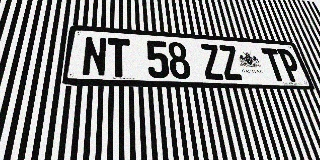5: (146, 40, 170, 79)
8: (167, 42, 192, 79)
N: (81, 36, 107, 77)
P: (277, 49, 304, 82)
T: (107, 38, 131, 78), (261, 48, 288, 82)
Z: (217, 45, 244, 81), (199, 44, 225, 80)
